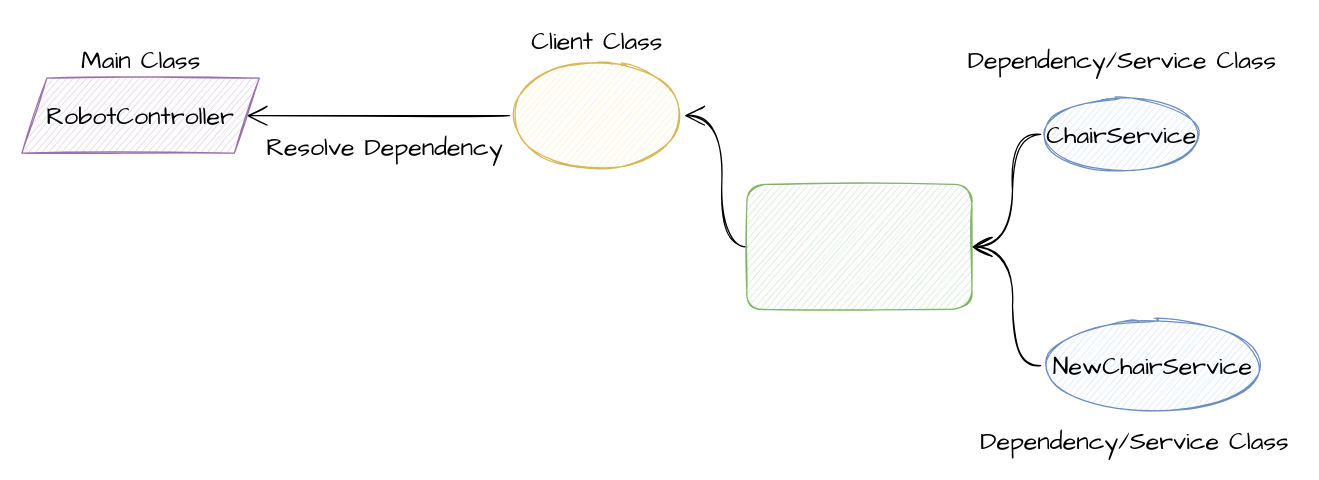
This 1319x480 diagram has some shape labels left out. The centre of each missing label's shape, as x and y in pixels:
"Interface - numberOfLegs - hasBack - hasCushion" belongs at (x=859, y=246).
"RobotService" belongs at (x=596, y=115).
